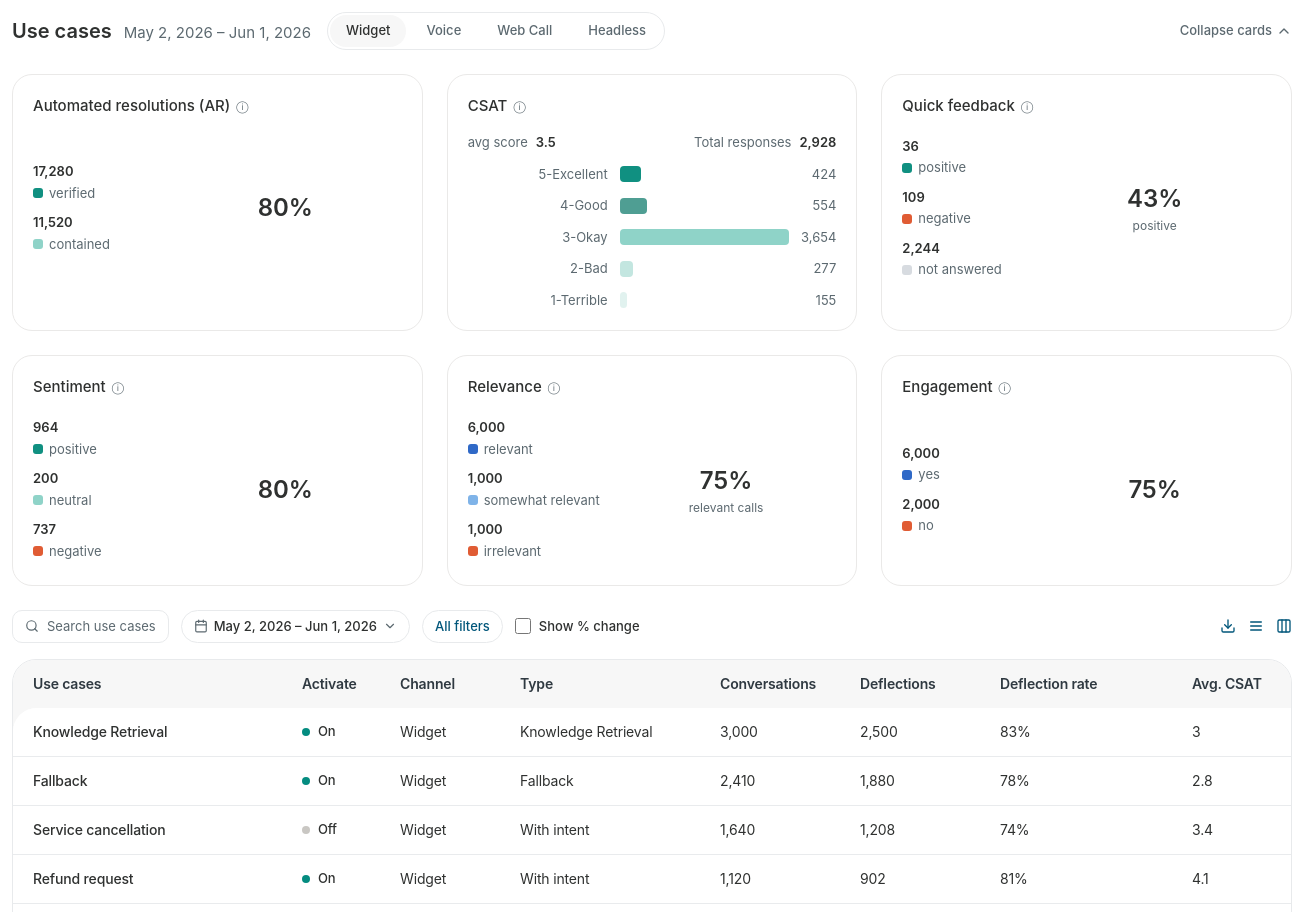
Scenario: UseCasesView › reveals the carried changes when Show % change is checked
Expected: the text "+7.4%" is not shown
Click the checkbox labelled "Show % change": (523, 626) [515,618,531,634]
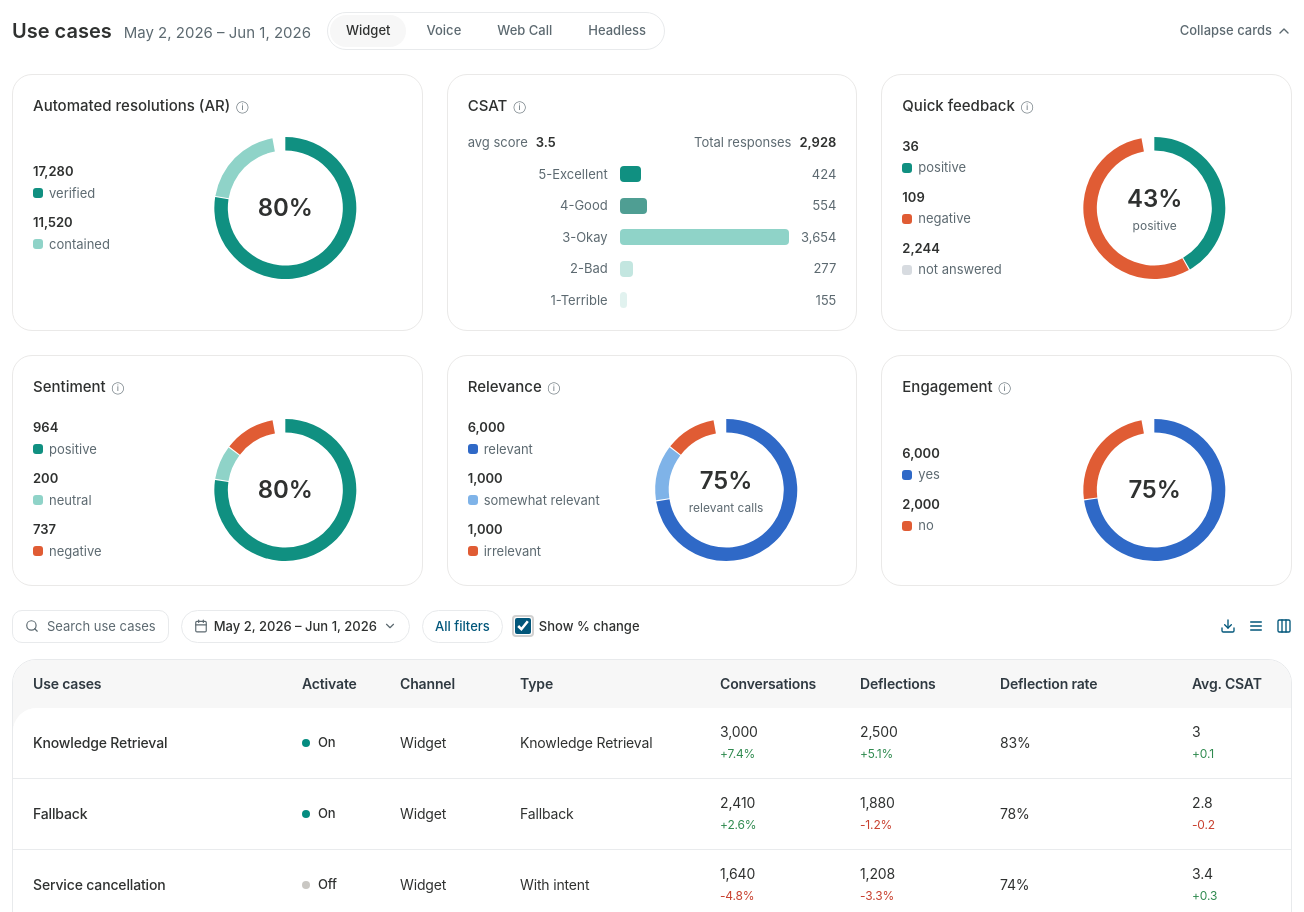
Expected: the text "+7.4%" is shown, [720,746,755,761]
Expected: the text "-4.8%" is shown, [720,888,754,903]
